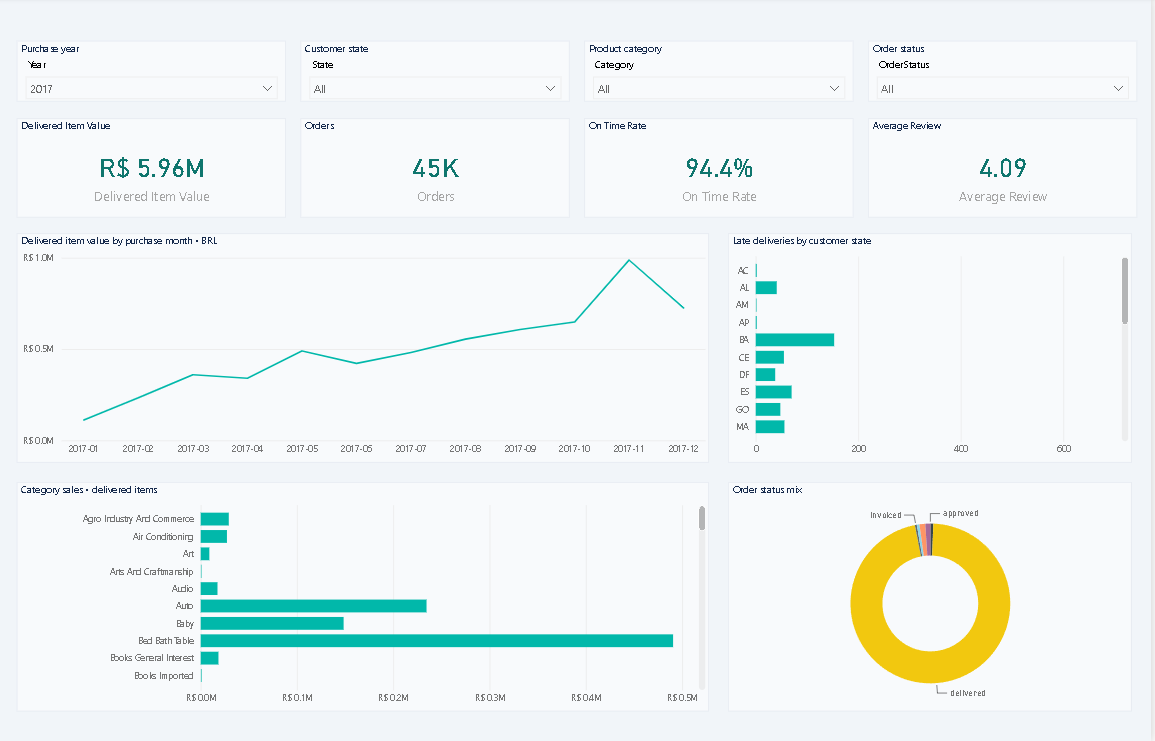

The page's visual inventory and layout, read from the dashboard file:
{"tool":"powerbi","page":{"name":"01 | Executive overview","canvas":[1440,900],"ordinal":0},"visuals":[{"type":"slicer","title":"Purchase year","fields":{"Values":["Calendar.Year"]},"box":[24,24,336,76],"z":24},{"type":"slicer","title":"Customer state","fields":{"Values":["Customers.State"]},"box":[378,24,336,76],"z":24},{"type":"slicer","title":"Product category","fields":{"Values":["Products.Category"]},"box":[732,24,336,76],"z":24},{"type":"slicer","title":"Order status","fields":{"Values":["Orders.OrderStatus"]},"box":[1086,24,336,76],"z":24},{"type":"card","title":"Delivered Item Value","fields":{"Values":["Orders.Delivered Item Value"]},"box":[24,120,336,124],"z":120},{"type":"card","title":"Orders","fields":{"Values":["Orders.Orders"]},"box":[378,120,336,124],"z":120},{"type":"card","title":"On Time Rate","fields":{"Values":["Orders.On Time Rate"]},"box":[732,120,336,124],"z":120},{"type":"card","title":"Average Review","fields":{"Values":["Orders.Average Review"]},"box":[1086,120,336,124],"z":120},{"type":"lineChart","title":"Delivered item value by purchase month • BRL","fields":{"Category":["Calendar.YearMonth"],"Y":["Orders.Delivered Item Value"]},"box":[24,264,864,286],"z":264},{"type":"barChart","title":"Late deliveries by customer state","fields":{"Category":["Customers.State"],"Y":["Orders.Late Deliveries"]},"box":[912,264,504,286],"z":264},{"type":"barChart","title":"Category sales • delivered items","fields":{"Category":["Products.Category"],"Y":["Orders.Delivered Item Value"]},"box":[24,574,864,286],"z":574},{"type":"donutChart","title":"Order status mix","fields":{"Category":["Orders.OrderStatus"],"Y":["Orders.Orders"]},"box":[912,574,504,286],"z":574}]}

Visuals, with their boxes in screenshot pixels (x1, y1, x2, y2), scaled from the page's 1440x900 canvas onto the 1155x741 screenshot:
"Purchase year" slicer: crop(19, 20, 289, 82)
"Customer state" slicer: crop(303, 20, 573, 82)
"Product category" slicer: crop(587, 20, 857, 82)
"Order status" slicer: crop(871, 20, 1141, 82)
"Delivered Item Value" card: crop(19, 99, 289, 201)
"Orders" card: crop(303, 99, 573, 201)
"On Time Rate" card: crop(587, 99, 857, 201)
"Average Review" card: crop(871, 99, 1141, 201)
"Delivered item value by purchase month • BRL" lineChart: crop(19, 217, 712, 453)
"Late deliveries by customer state" barChart: crop(732, 217, 1136, 453)
"Category sales • delivered items" barChart: crop(19, 473, 712, 708)
"Order status mix" donutChart: crop(732, 473, 1136, 708)
